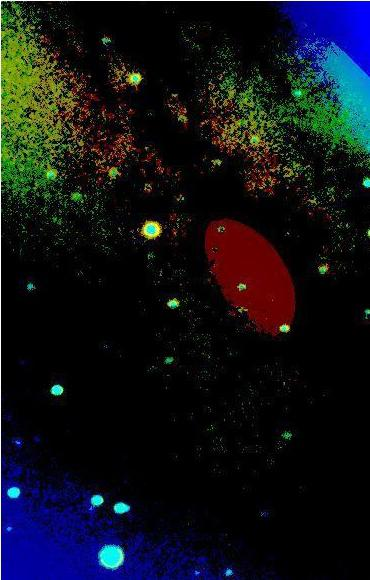star: (116, 325, 146, 355)
